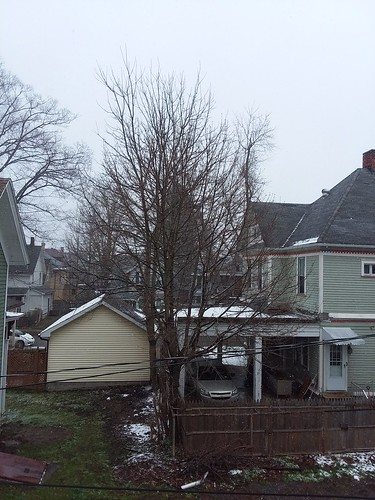building: (180, 161, 375, 421), (1, 185, 152, 390)
sky: (41, 1, 375, 207)
tree: (67, 105, 241, 445)
